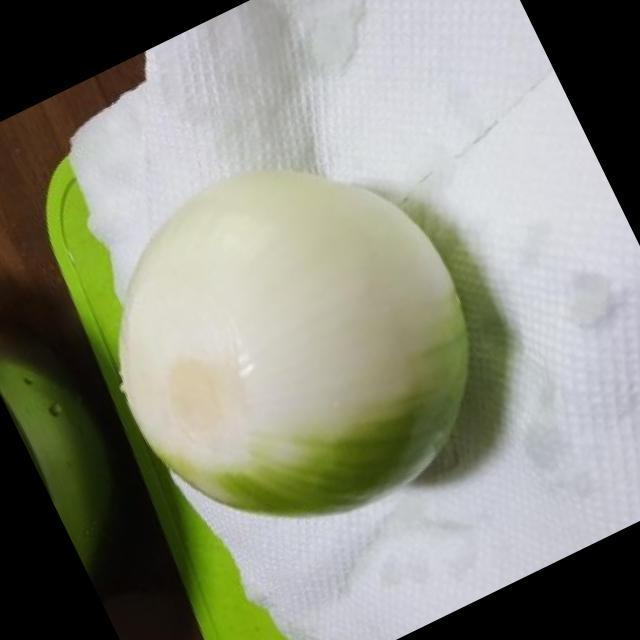Onion: (116, 171, 467, 516)
